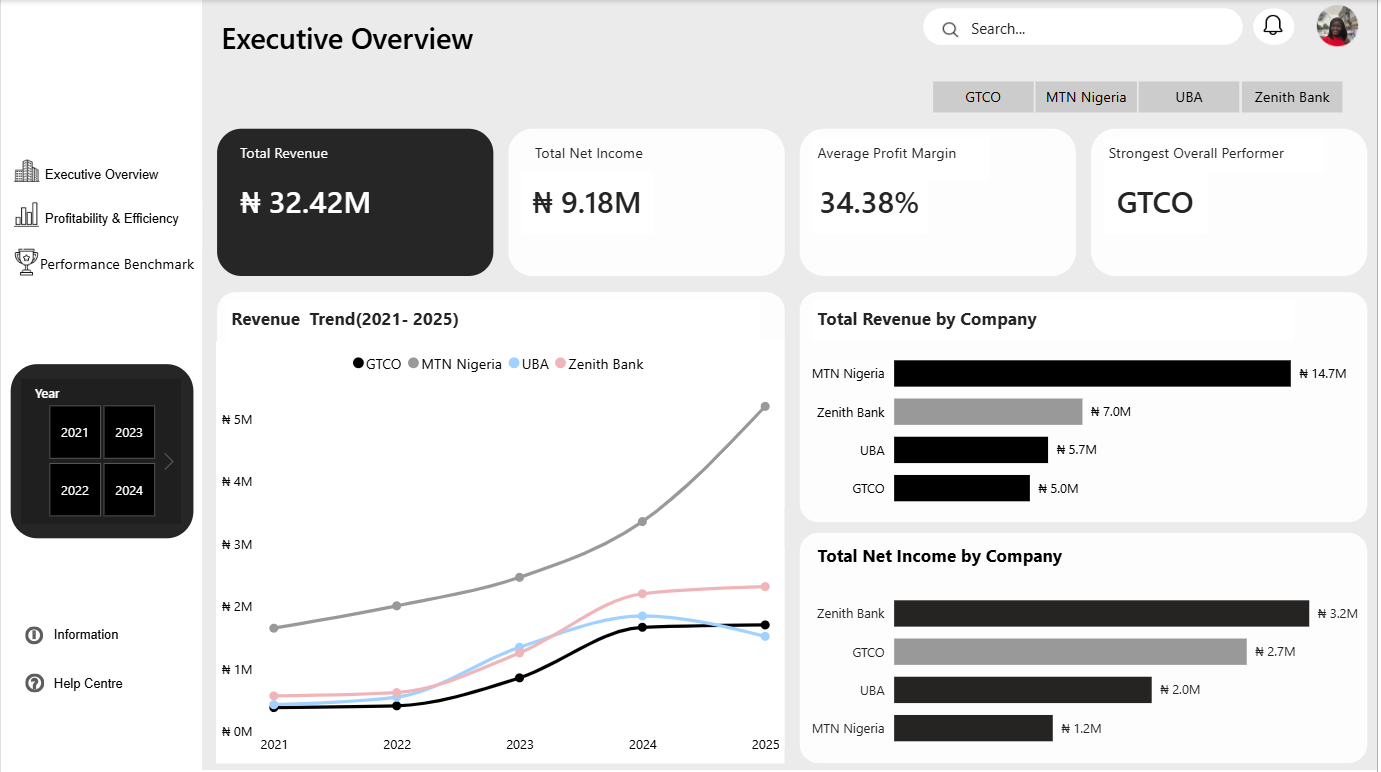

The dashboard page shown, as its layout file describes it:
{"tool":"powerbi","page":{"name":"Page 1","canvas":[1280,720],"ordinal":0},"visuals":[{"type":"card","fields":{"Values":["Measures (2).Total Revenue"]},"box":[217.4,159.3,132.6,58.1],"z":0},{"type":"textbox","box":[217.4,127.9,133.7,31.4],"z":1000},{"type":"card","fields":{"Values":["Measures (2).Total Net Income"]},"box":[483.7,159.3,123.3,58.1],"z":2000},{"type":"textbox","box":[491.9,127.9,130.2,31.4],"z":3000},{"type":"card","fields":{"Values":["Measures (2).Avg Profit Margin"]},"box":[754.7,159.3,107,58.1],"z":4000},{"type":"textbox","box":[754.7,127.9,165.1,39.5],"z":5000},{"type":"card","fields":{"Values":["Measures (2).Top Performing Company"]},"box":[1025.6,159.3,96.5,58.1],"z":6000},{"type":"textbox","box":[1025.6,127.9,205.8,32.6],"z":7000},{"type":"lineChart","fields":{"Category":["nigerian_company_financials.year"],"Series":["nigerian_company_financials.company"],"Y":["Measures (2).Total Revenue"]},"box":[200,317.4,529.1,393],"z":8000},{"type":"textbox","box":[209.3,280.2,496.5,37.2],"z":9000},{"type":"clusteredBarChart","fields":{"Category":["nigerian_company_financials.company"],"Y":["Measures (2).Total Revenue"]},"box":[743,308.1,529.1,179.1],"z":10000},{"type":"textbox","box":[754.7,280.2,447.7,37.2],"z":11000},{"type":"clusteredBarChart","fields":{"Category":["nigerian_company_financials.company"],"Y":["Measures (2).Total Net Income"]},"box":[743,531.4,529.1,179.1],"z":12000},{"type":"textbox","box":[754.7,500,351.2,31.4],"z":13000},{"type":"slicer","fields":{"Values":["nigerian_company_financials.year"]},"box":[18.6,352.3,148.8,134.9],"z":14000},{"type":"slicer","fields":{"Values":["nigerian_company_financials.company"]},"box":[840.7,68.6,431.4,43],"z":15000},{"type":"textbox","box":[200,11.6,575.6,45.3],"z":16000},{"type":"textbox","box":[850,11.6,307,37.2],"z":17000},{"type":"image","box":[861.6,20.9,43,14],"z":18000},{"type":"image","box":[1172.1,11.6,22.1,23.3],"z":19000},{"type":"textbox","box":[36,147.7,141.9,33.7],"z":20000},{"type":"textbox","box":[36,188.4,151.2,43],"z":21000},{"type":"textbox","box":[31.4,231.4,168.6,33.7],"z":22000},{"type":"image","box":[4.7,147.7,39.5,24.4],"z":23000},{"type":"image","box":[9.3,188.4,29.1,22.1],"z":24000},{"type":"image","box":[9.3,231.4,29.1,24.4],"z":25000},{"type":"textbox","box":[44.2,575.6,96.5,31.4],"z":26000},{"type":"textbox","box":[44.2,620.9,82.6,31.4],"z":27000},{"type":"actionButton","box":[18.6,575.6,24.4,31.4],"z":28000},{"type":"actionButton","box":[18.6,620.9,25.6,29.1],"z":29000},{"type":"actionButton","box":[35.2,145.5,116.2,36.4],"z":30000},{"type":"actionButton","box":[43,188.4,124.4,32.6],"z":31000},{"type":"actionButton","box":[31.4,231.4,146.5,33.7],"z":32000},{"type":"image","box":[1222.7,4.7,39.9,38.7],"z":33000}]}

Visuals, with their boxes on the page's 1280x720 design canvas (x1, y1, x2, y2). These are canvas units, not pixel positions in the 1381x772 screenshot, which may show the page scaled, cropped or inside an application window:
card - Measures (2).Total Revenue: rect(217, 159, 350, 217)
textbox: rect(217, 128, 351, 159)
card - Measures (2).Total Net Income: rect(484, 159, 607, 217)
textbox: rect(492, 128, 622, 159)
card - Measures (2).Avg Profit Margin: rect(755, 159, 862, 217)
textbox: rect(755, 128, 920, 167)
card - Measures (2).Top Performing Company: rect(1026, 159, 1122, 217)
textbox: rect(1026, 128, 1231, 160)
lineChart - nigerian_company_financials.year x nigerian_company_financials.company: rect(200, 317, 729, 710)
textbox: rect(209, 280, 706, 317)
clusteredBarChart - nigerian_company_financials.company x Measures (2).Total Revenue: rect(743, 308, 1272, 487)
textbox: rect(755, 280, 1202, 317)
clusteredBarChart - nigerian_company_financials.company x Measures (2).Total Net Income: rect(743, 531, 1272, 710)
textbox: rect(755, 500, 1106, 531)
slicer - nigerian_company_financials.year: rect(19, 352, 167, 487)
slicer - nigerian_company_financials.company: rect(841, 69, 1272, 112)
textbox: rect(200, 12, 776, 57)
textbox: rect(850, 12, 1157, 49)
image: rect(862, 21, 905, 35)
image: rect(1172, 12, 1194, 35)
textbox: rect(36, 148, 178, 181)
textbox: rect(36, 188, 187, 231)
textbox: rect(31, 231, 200, 265)
image: rect(5, 148, 44, 172)
image: rect(9, 188, 38, 210)
image: rect(9, 231, 38, 256)
textbox: rect(44, 576, 141, 607)
textbox: rect(44, 621, 127, 652)
actionButton: rect(19, 576, 43, 607)
actionButton: rect(19, 621, 44, 650)
actionButton: rect(35, 146, 151, 182)
actionButton: rect(43, 188, 167, 221)
actionButton: rect(31, 231, 178, 265)
image: rect(1223, 5, 1263, 43)
